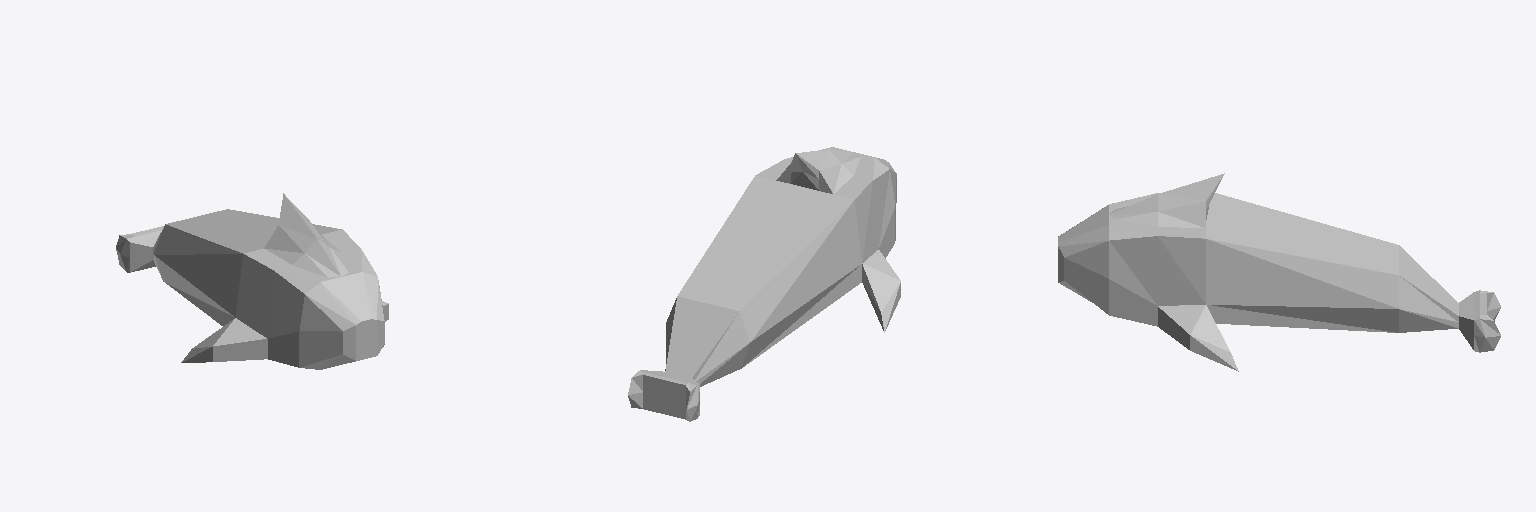
The model's file is dolphin.obj.
The picture shows the model from 3 angles: view 1: azimuth 30°, elevation 25°; view 2: azimuth 150°, elevation 25°; view 3: azimuth 270°, elevation 25°; orthographic projection.
Parts seen in each view (by area): view 1: Cube; view 2: Cube; view 3: Cube.
Boxes of the visible parts, box(x1,y1,x2,y2) form: Cube: box(116, 193, 388, 369); Cube: box(628, 147, 900, 421); Cube: box(1058, 173, 1500, 371).
Bounding box in the file's own units: 4.57 × 3.76 × 9.13.